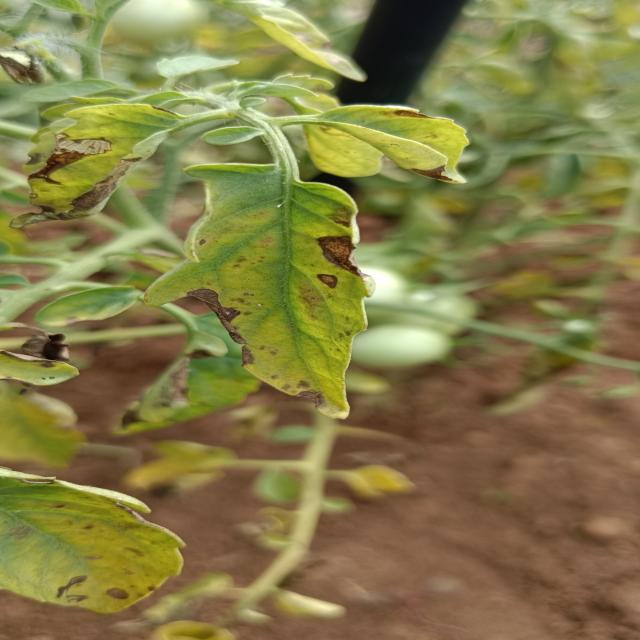tomato_early blight: (164, 156, 370, 414), (2, 466, 182, 614), (2, 96, 196, 227), (300, 96, 496, 180), (4, 394, 83, 466), (0, 332, 88, 386)
